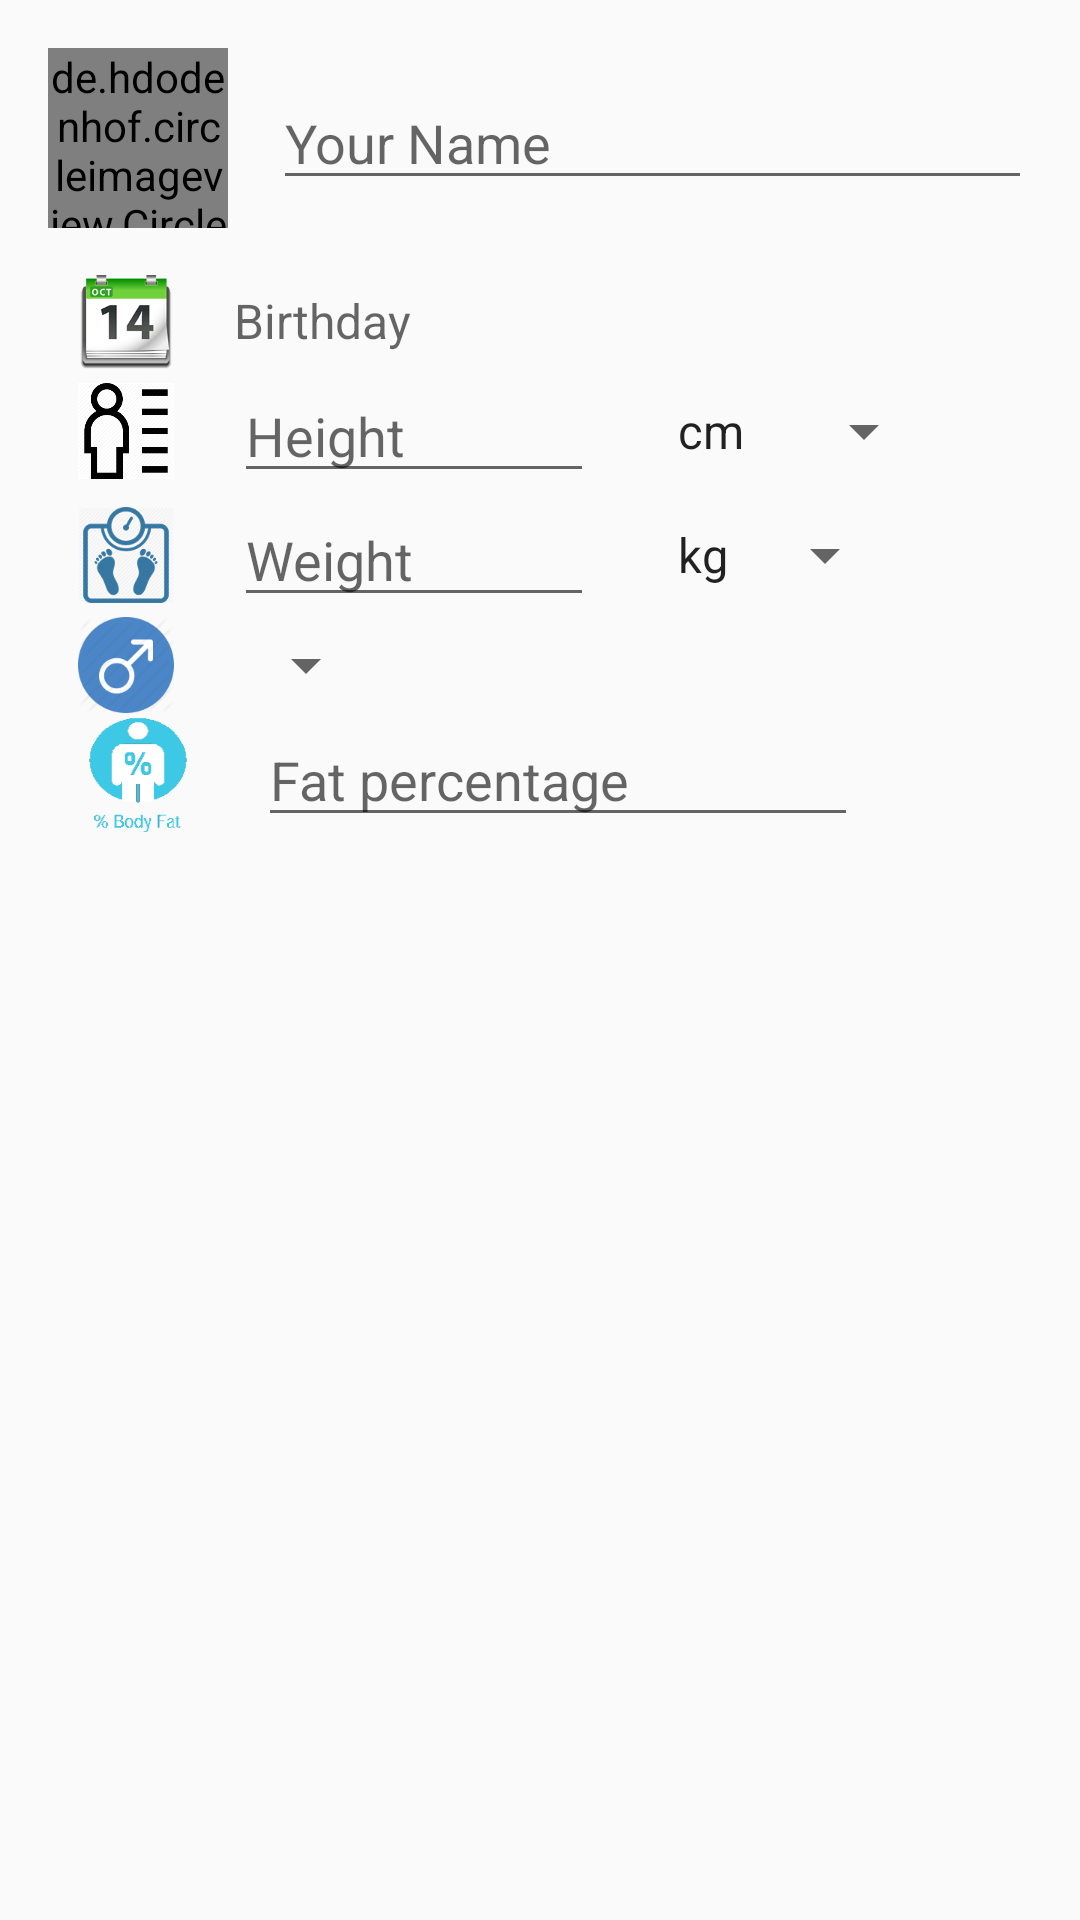

Screen size 1080x1920. Icon name, then its center in pixels as point (x, y):
calendar: point (126, 321)
gender male: point (126, 665)
